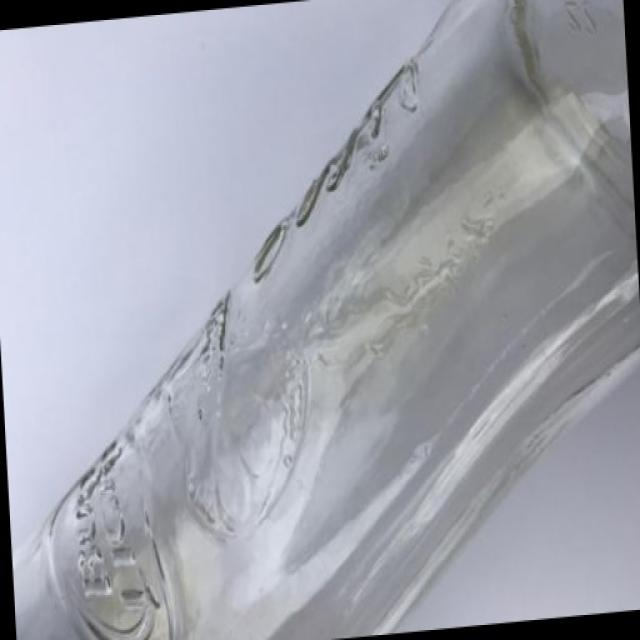vidrio: (18, 35, 640, 626)
